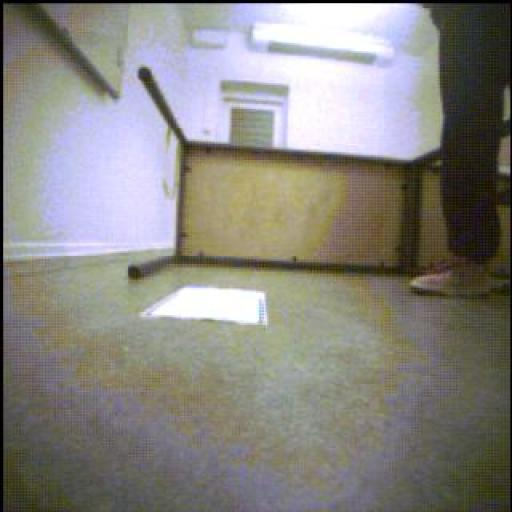Pad: (142, 287, 268, 326)
